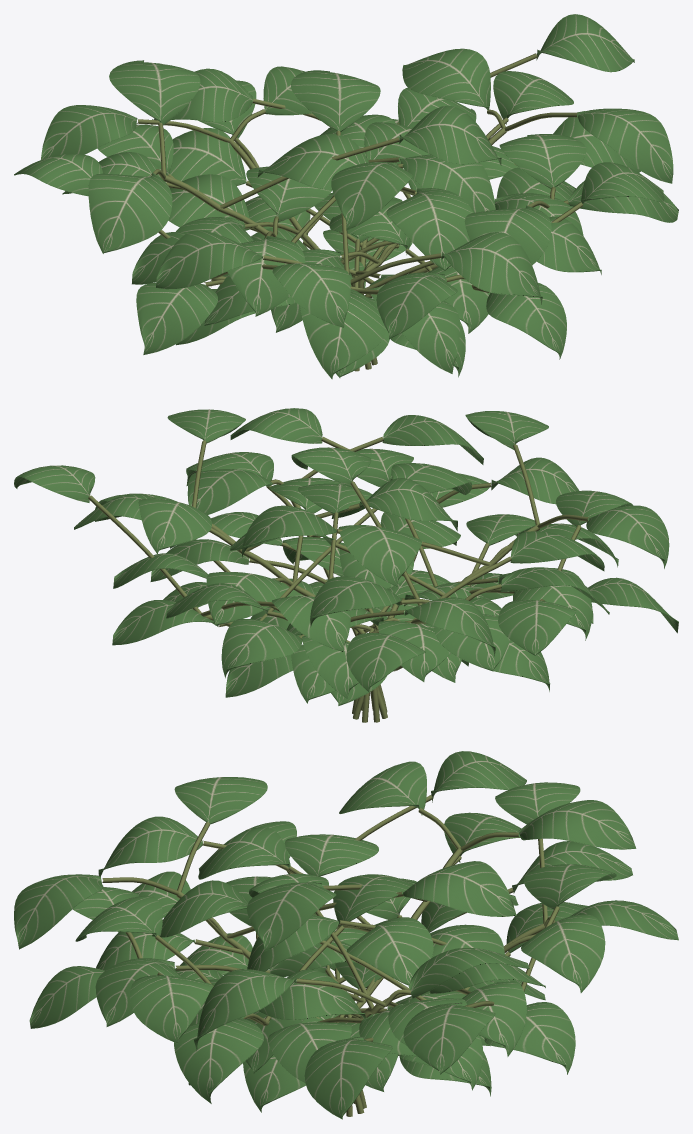
The model's file is fittonia-stage-7.glb.
The picture shows the model from 3 angles, top to bottom: view 1: azimuth 30°, elevation 25°; view 2: azimuth 150°, elevation 25°; view 3: azimuth 270°, elevation 25°; orthographic projection. The views are drawn at different scales.
Visible parts, largest first — view 1: PlantBranches, Leaf_58, Leaf_53, Leaf_62, Leaf_39, Leaf_44, Leaf_46, Leaf_52, Leaf_63, Leaf_59, Leaf_47, Leaf_43 (+41 smaller); view 2: PlantBranches, Leaf_35, Leaf_40, Leaf_61, Leaf_63, Leaf_52, Leaf_29, Leaf_59, Leaf_50, Leaf_37, Leaf_56, Leaf_54 (+40 smaller); view 3: PlantBranches, Leaf_23, Leaf_34, Leaf_47, Leaf_57, Leaf_55, Leaf_48, Leaf_59, Leaf_62, Leaf_45, Leaf_53, Leaf_43 (+42 smaller).
Part boxes in pixels (bbox=[...]): PlantBranches: bbox=[137, 53, 582, 371]; Leaf_58: bbox=[88, 172, 172, 253]; Leaf_53: bbox=[578, 108, 673, 183]; Leaf_62: bbox=[441, 232, 542, 304]; Leaf_39: bbox=[386, 188, 473, 270]; Leaf_44: bbox=[136, 282, 217, 354]; Leaf_46: bbox=[300, 289, 385, 379]; Leaf_52: bbox=[402, 48, 490, 114]; Leaf_63: bbox=[156, 230, 263, 289]; Leaf_59: bbox=[109, 60, 200, 125]; Leaf_47: bbox=[291, 70, 380, 131]; Leaf_43: bbox=[399, 105, 501, 165]; PlantBranches: bbox=[88, 436, 588, 722]; Leaf_35: bbox=[338, 525, 421, 587]; Leaf_40: bbox=[221, 619, 302, 678]; Leaf_61: bbox=[498, 600, 576, 655]; Leaf_63: bbox=[586, 505, 669, 568]; Leaf_52: bbox=[138, 498, 211, 554]; Leaf_29: bbox=[346, 633, 425, 692]; Leaf_59: bbox=[310, 576, 402, 627]; Leaf_50: bbox=[187, 469, 272, 514]; Leaf_37: bbox=[359, 478, 457, 531]; Leaf_56: bbox=[404, 597, 495, 656]; Leaf_54: bbox=[272, 596, 350, 652]; PlantBranches: bbox=[102, 795, 559, 1116]; Leaf_23: bbox=[304, 1036, 392, 1119]; Leaf_34: bbox=[174, 1018, 263, 1103]; Leaf_47: bbox=[403, 861, 516, 916]; Leaf_57: bbox=[521, 914, 605, 992]; Leaf_55: bbox=[403, 1002, 495, 1074]; Leaf_48: bbox=[130, 975, 212, 1043]; Leaf_59: bbox=[518, 800, 636, 849]; Leaf_62: bbox=[14, 874, 103, 949]; Leaf_45: bbox=[347, 917, 433, 985]; Leaf_53: bbox=[193, 969, 296, 1050]; Leaf_43: bbox=[247, 882, 336, 951].
Bounding box in the file's own units: 2.45 × 0.9746 × 2.29.
Materials: 2 (1 with a texture image).
